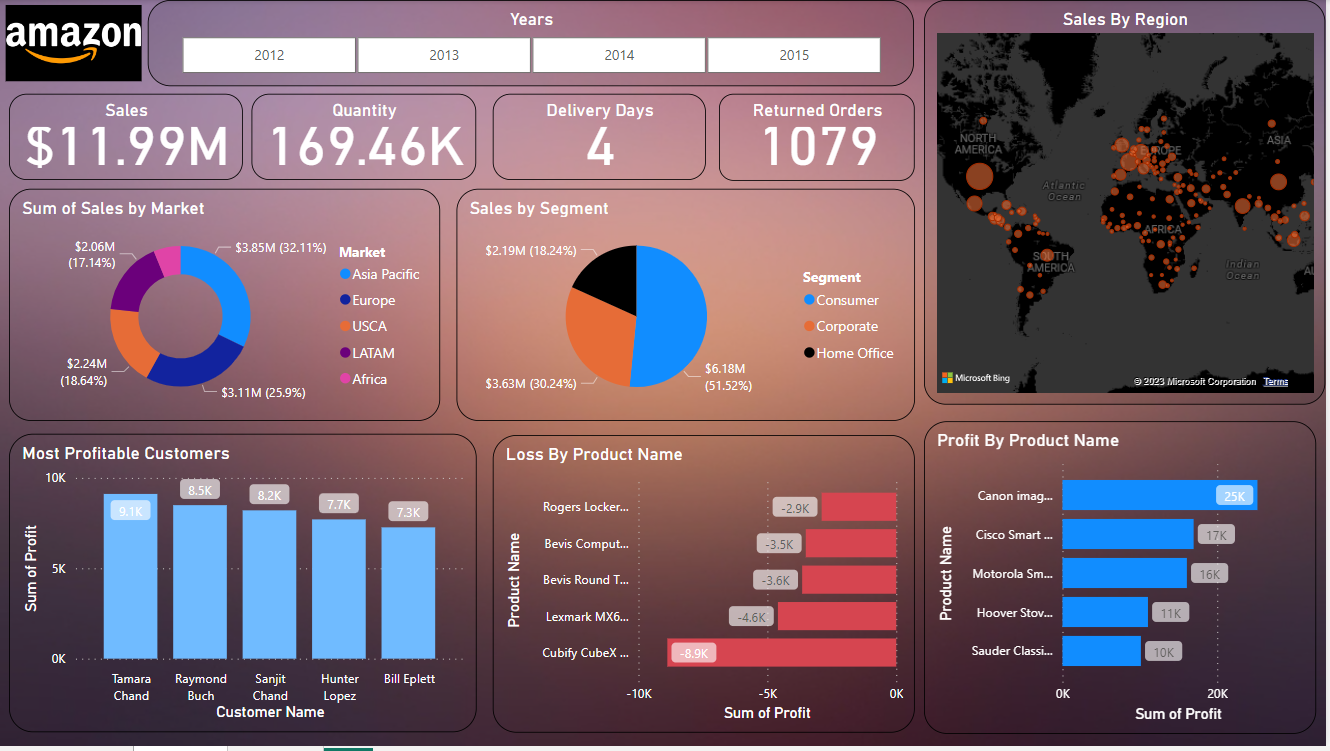

This screenshot's page, from the dashboard's own definition file:
{"tool":"powerbi","page":{"name":"Page 1","canvas":[1280,720],"ordinal":0},"visuals":[{"type":"card","title":"      Sales","fields":{"Values":["Sum(Orders.Sales)"]},"box":[9.6,90.5,225.5,83.2],"z":0},{"type":"card","title":"Quantity","fields":{"Values":["Sum(Orders.Quantity)"]},"box":[244,90.4,216.6,83.3],"z":1000},{"type":"card","title":"Delivery Days","fields":{"Values":["Avg(Orders.Delivery Days)"]},"box":[476.7,90,205.6,83.3],"z":2000},{"type":"slicer","title":"Years","fields":{"Values":["Orders.Years"]},"box":[144,0,739,83.3],"z":3000},{"type":"card","title":"Returned Orders","fields":{"Values":["Sum(Returns.Returns)"]},"box":[695,90,188.8,83.8],"z":4000},{"type":"map","title":"Sales By Region","fields":{"Category":["Orders.Country"],"Size":["Sum(Orders.Sales)"]},"box":[892.5,0,387.5,390],"z":5000},{"type":"barChart","title":"Profit By Product Name","fields":{"Y":["Sum(Orders.Profit)"],"Category":["Orders.Product Name"]},"box":[892.5,406.2,378.8,301.2],"z":6000},{"type":"barChart","title":"Loss By Product Name","fields":{"Y":["Sum(Orders.Profit)"],"Category":["Orders.Product Name"]},"box":[476.2,420,407.5,287.5],"z":7000},{"type":"pieChart","title":"Sales by Segment","fields":{"Y":["Sum(Orders.Sales)"],"Category":["Orders.Segment"]},"box":[441.2,182.5,442.5,223.8],"z":8000},{"type":"donutChart","fields":{"Y":["Sum(Orders.Sales)"],"Category":["Orders.Market"]},"box":[10,182.5,416.2,223.8],"z":9000},{"type":"columnChart","title":"Most Profitable Customers","fields":{"Category":["Orders.Customer Name"],"Y":["Sum(Orders.Profit)"]},"box":[9.5,418.9,451,288],"z":10000},{"type":"image","box":[0,0,144,83.6],"z":11000}]}

Visuals, with their boxes in screenshot pixels (x1, y1, x2, y2), scaled from the page's 1280x720 canvas onto the 1330x751 screenshot:
"      Sales" card: BBox(10, 94, 244, 181)
"Quantity" card: BBox(254, 94, 479, 181)
"Delivery Days" card: BBox(495, 94, 709, 181)
"Years" slicer: BBox(150, 0, 917, 87)
"Returned Orders" card: BBox(722, 94, 918, 181)
"Sales By Region" map: BBox(927, 0, 1329, 407)
"Profit By Product Name" barChart: BBox(927, 424, 1321, 738)
"Loss By Product Name" barChart: BBox(495, 438, 918, 738)
"Sales by Segment" pieChart: BBox(458, 190, 918, 424)
donutChart - Sum(Orders.Sales) x Orders.Market: BBox(10, 190, 443, 424)
"Most Profitable Customers" columnChart: BBox(10, 437, 478, 737)
image: BBox(0, 0, 150, 87)
